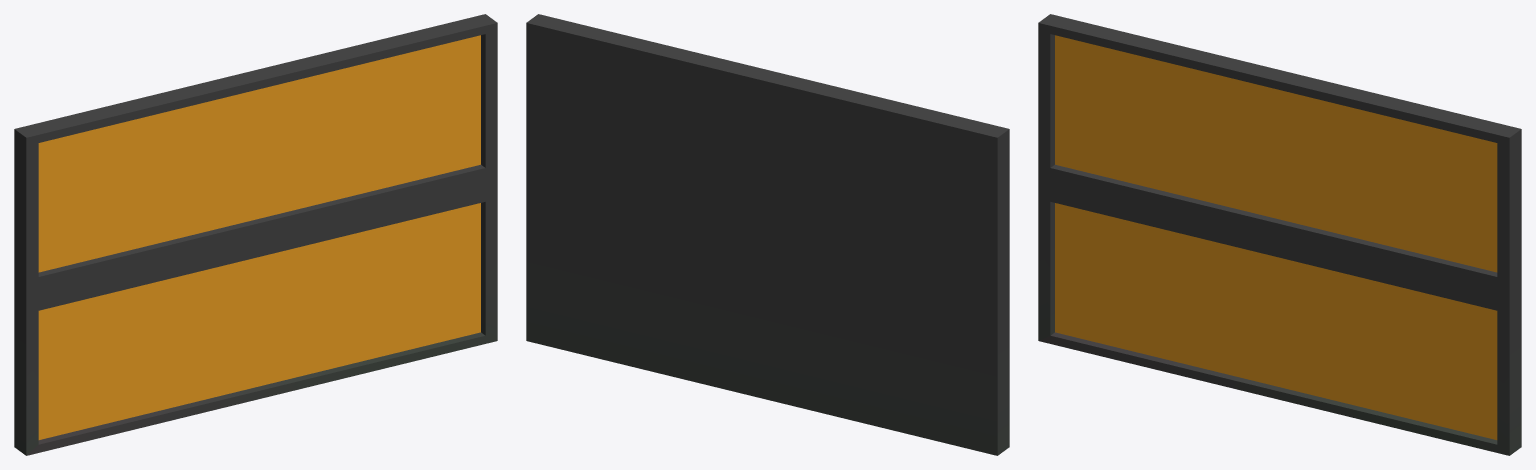
The model's file is Wall.fbx.
The picture shows the model from 3 angles, left to right: view 1: azimuth 30°, elevation 25°; view 2: azimuth 150°, elevation 25°; view 3: azimuth 330°, elevation 25°; orthographic projection.
Parts seen in each view (by area): view 1: Cube; view 2: Cube; view 3: Cube.
Boxes of the visible parts, x1,y1,x2,y2 form: Cube: (14, 14, 497, 455); Cube: (526, 14, 1009, 455); Cube: (1038, 14, 1521, 455).
Bounding box in the file's own units: 693 × 447 × 30.79.
